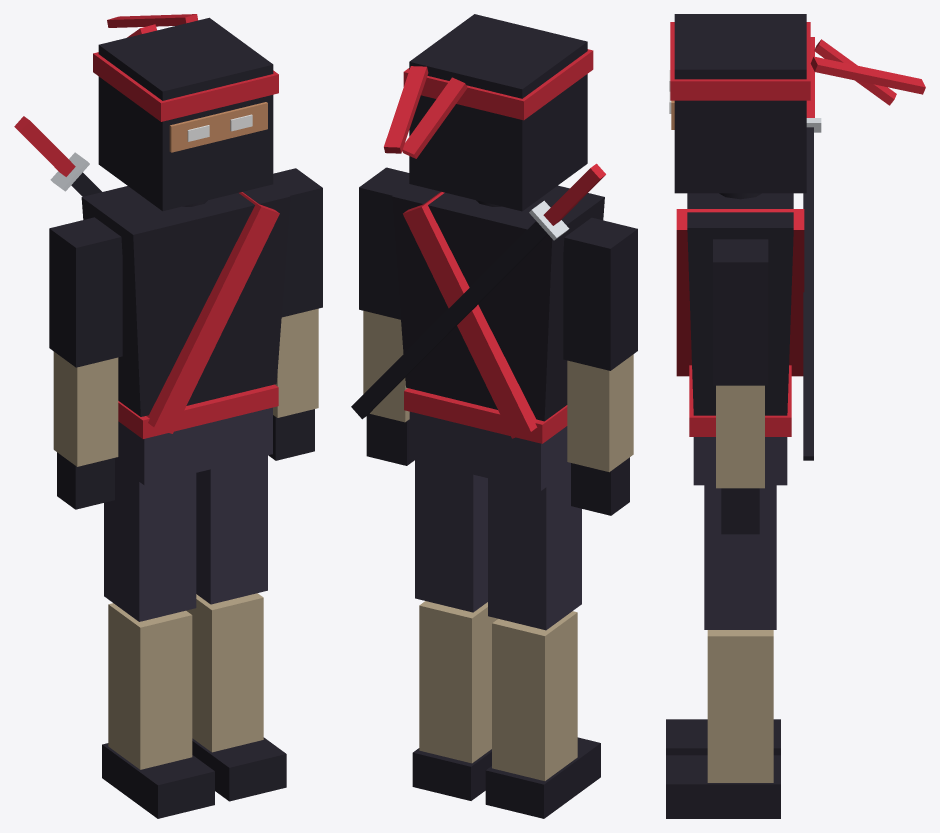
Rendered from ShadowNinja.obj.
3 renders of one model, left to right at view 1: azimuth 30°, elevation 25°; view 2: azimuth 150°, elevation 25°; view 3: azimuth 270°, elevation 25°, orthographic. The views are drawn at different scales.
Visible parts, largest first — view 1: Torso, Head, Shin_R, Thigh_R, Shin_L, UpperArm_R, Thigh_L, Pelvis, Sash, Forearm_R, UpperArm_L, Foot_R (+11 smaller); view 2: Torso, Head, Shin_R, Thigh_R, Shin_L, UpperArm_R, Thigh_L, Pelvis, Sash, Forearm_R, UpperArm_L, Saya (+10 smaller); view 3: Head, Torso, Shin_L, Thigh_L, UpperArm_L, Foot_L, Forearm_L, Sash, Headband, Saya, BandTailMesh, Pelvis (+3 smaller).
Boxes of the visible parts, bbox=[...] form: Torso: bbox=[81, 184, 290, 416]; Head: bbox=[98, 17, 273, 211]; Shin_R: bbox=[108, 603, 192, 769]; Thigh_R: bbox=[104, 444, 196, 621]; Shin_L: bbox=[186, 593, 263, 752]; UpperArm_R: bbox=[49, 217, 122, 367]; Thigh_L: bbox=[196, 455, 267, 604]; Pelvis: bbox=[115, 407, 272, 485]; Sash: bbox=[146, 192, 279, 433]; Forearm_R: bbox=[53, 351, 118, 466]; UpperArm_L: bbox=[273, 168, 322, 317]; Foot_R: bbox=[102, 743, 214, 818]; Torso: bbox=[392, 184, 604, 421]; Head: bbox=[409, 14, 587, 211]; Shin_R: bbox=[492, 611, 577, 780]; Thigh_R: bbox=[488, 462, 581, 630]; Shin_L: bbox=[419, 601, 497, 763]; UpperArm_R: bbox=[563, 217, 637, 370]; Thigh_L: bbox=[415, 460, 487, 612]; Pelvis: bbox=[409, 411, 570, 490]; Sash: bbox=[403, 191, 538, 438]; Forearm_R: bbox=[567, 354, 633, 472]; UpperArm_L: bbox=[359, 167, 409, 319]; Saya: bbox=[351, 221, 547, 419]; Head: bbox=[674, 14, 806, 193]; Torso: bbox=[687, 193, 793, 415]; Shin_L: bbox=[707, 630, 773, 782]; Thigh_L: bbox=[704, 460, 776, 629]; UpperArm_L: bbox=[713, 239, 768, 385]; Foot_L: bbox=[666, 755, 780, 818]; Forearm_L: bbox=[716, 385, 764, 488]; Sash: bbox=[676, 209, 804, 376]; Headband: bbox=[670, 22, 810, 100]; Saya: bbox=[803, 127, 813, 460]; BandTailMesh: bbox=[810, 39, 925, 105]; Pelvis: bbox=[693, 437, 787, 485].
Bounding box in the file's own units: 0.7248 × 1.94 × 0.6104.
